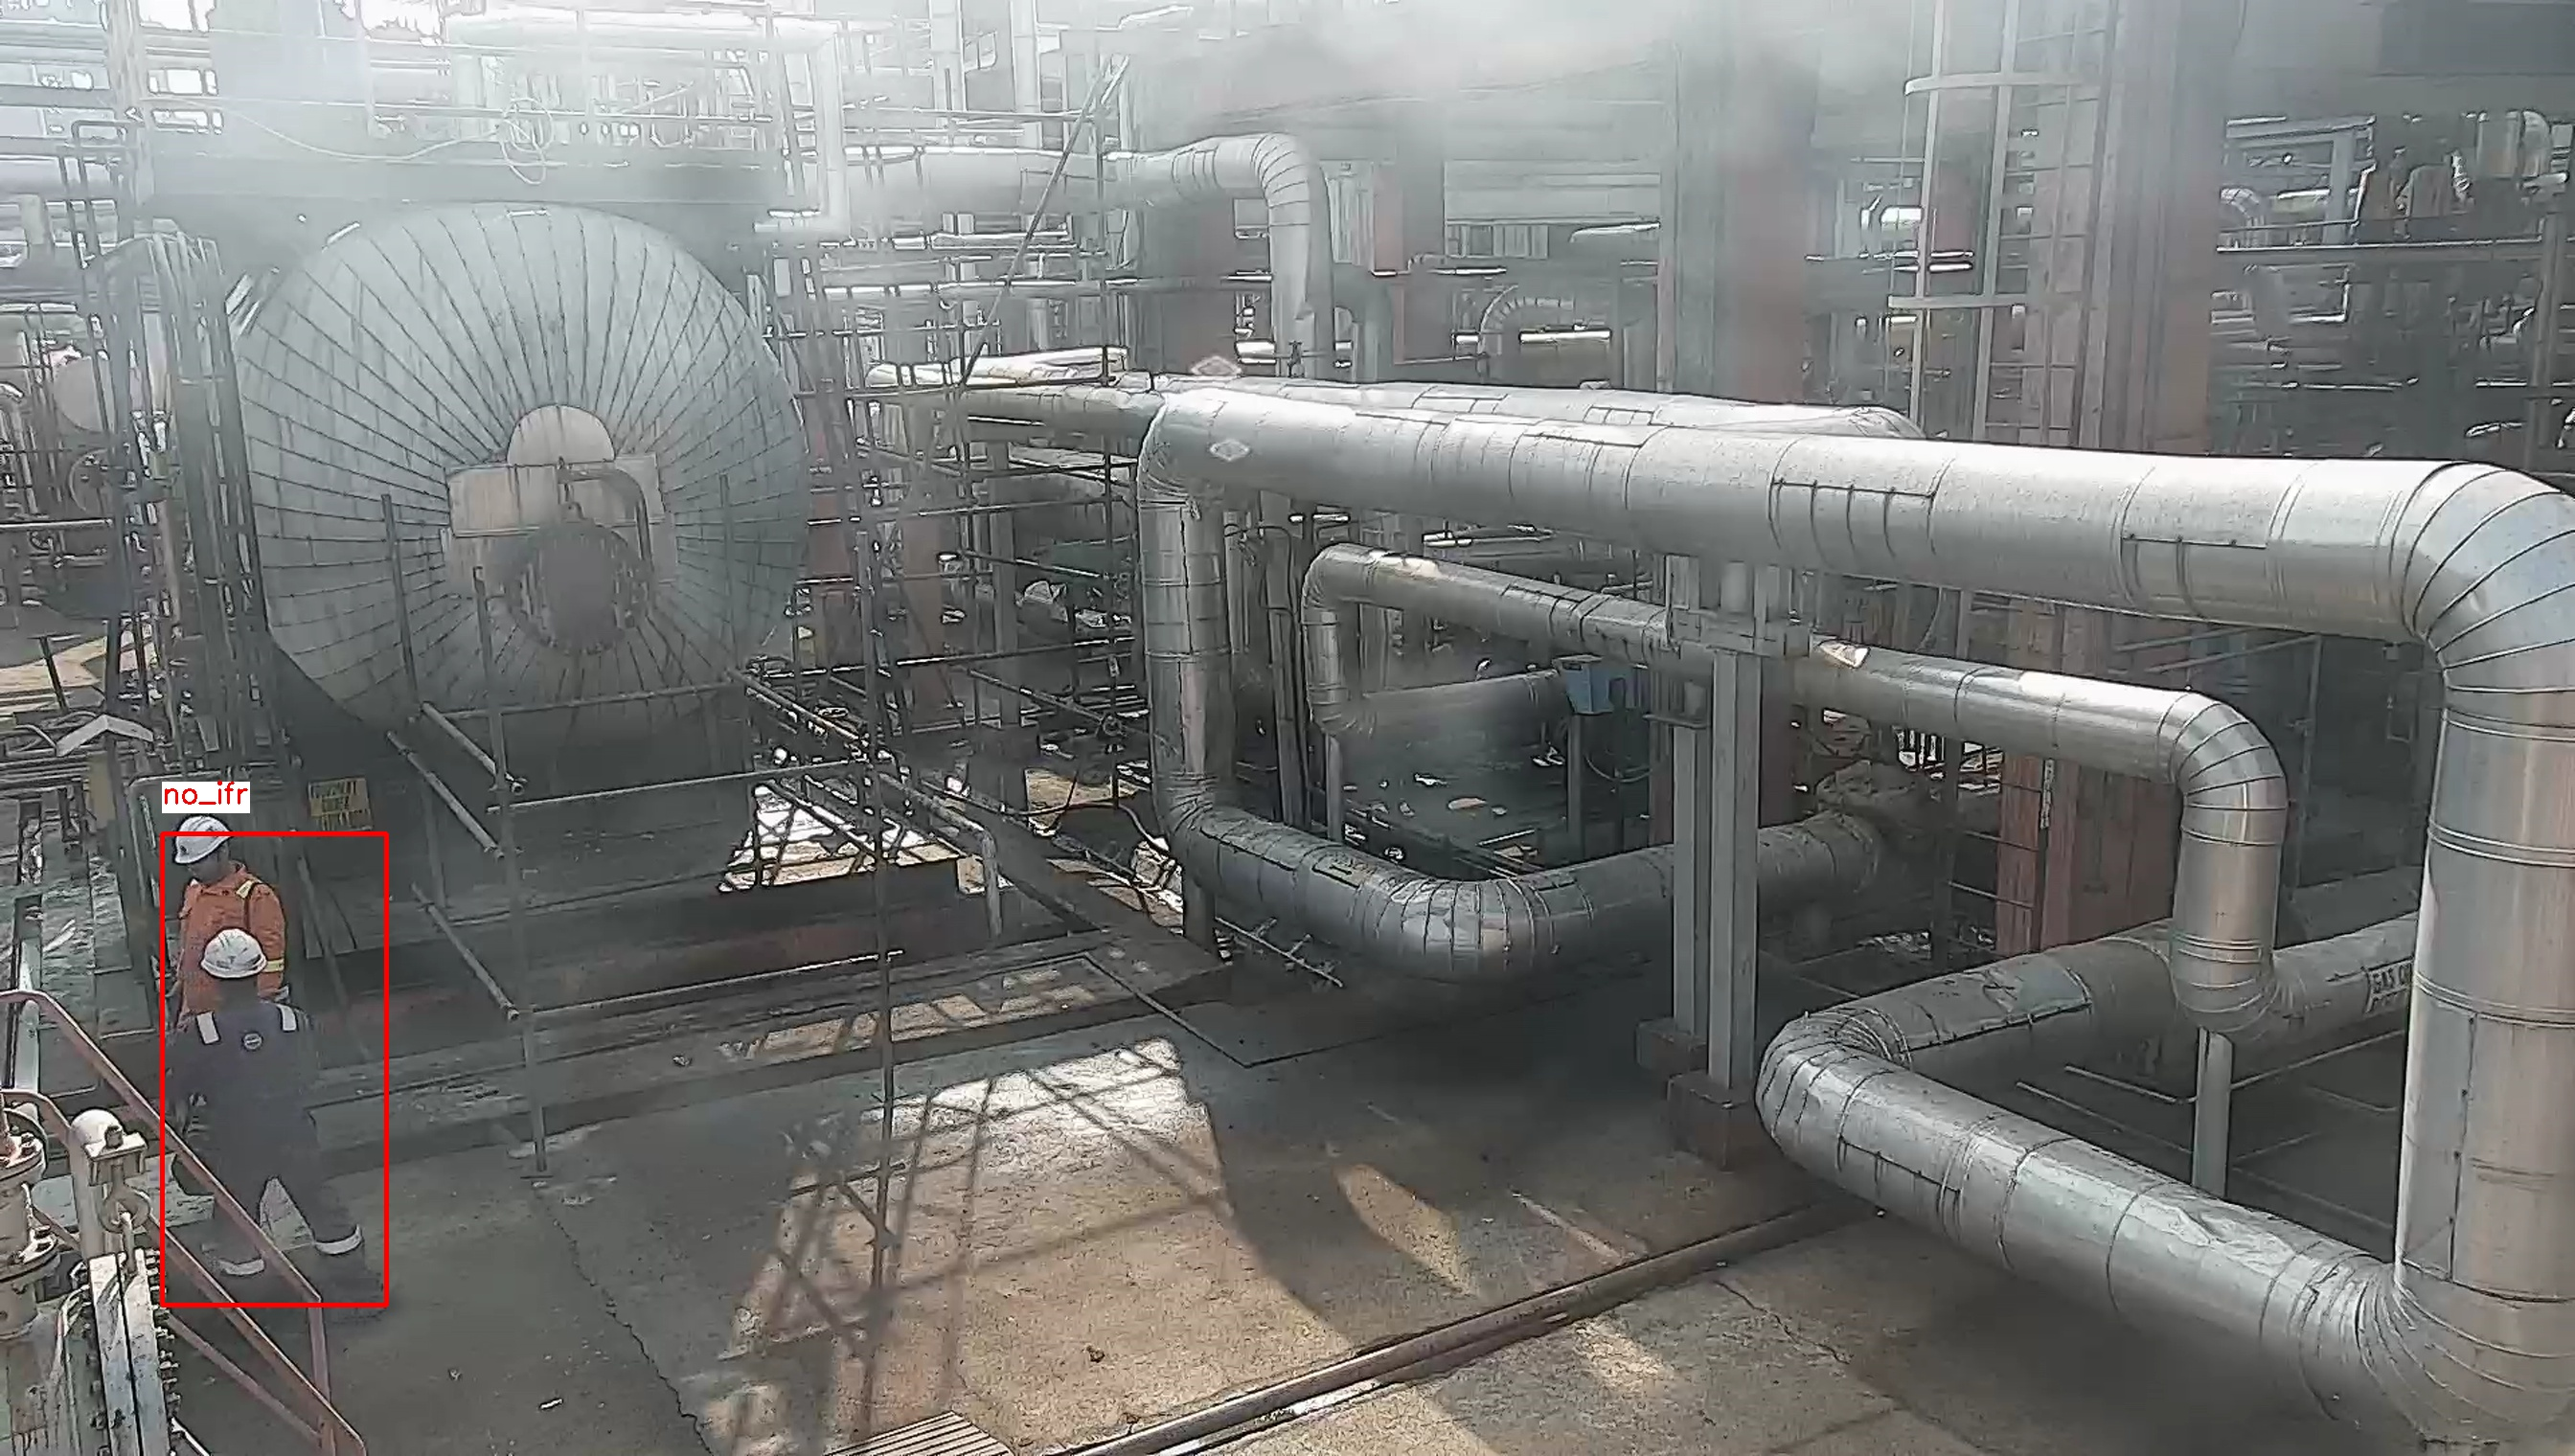Helmets: (193, 925, 272, 984)
IFR_Suit: (175, 1003, 364, 1290)
